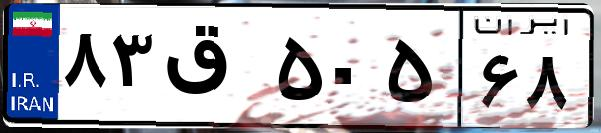0: (330, 28, 385, 110)
3: (110, 28, 158, 98)
5: (270, 28, 330, 110), (385, 28, 445, 110)
6: (475, 38, 525, 113)
8: (57, 26, 110, 100), (525, 38, 570, 115)
ق: (158, 20, 270, 120)
